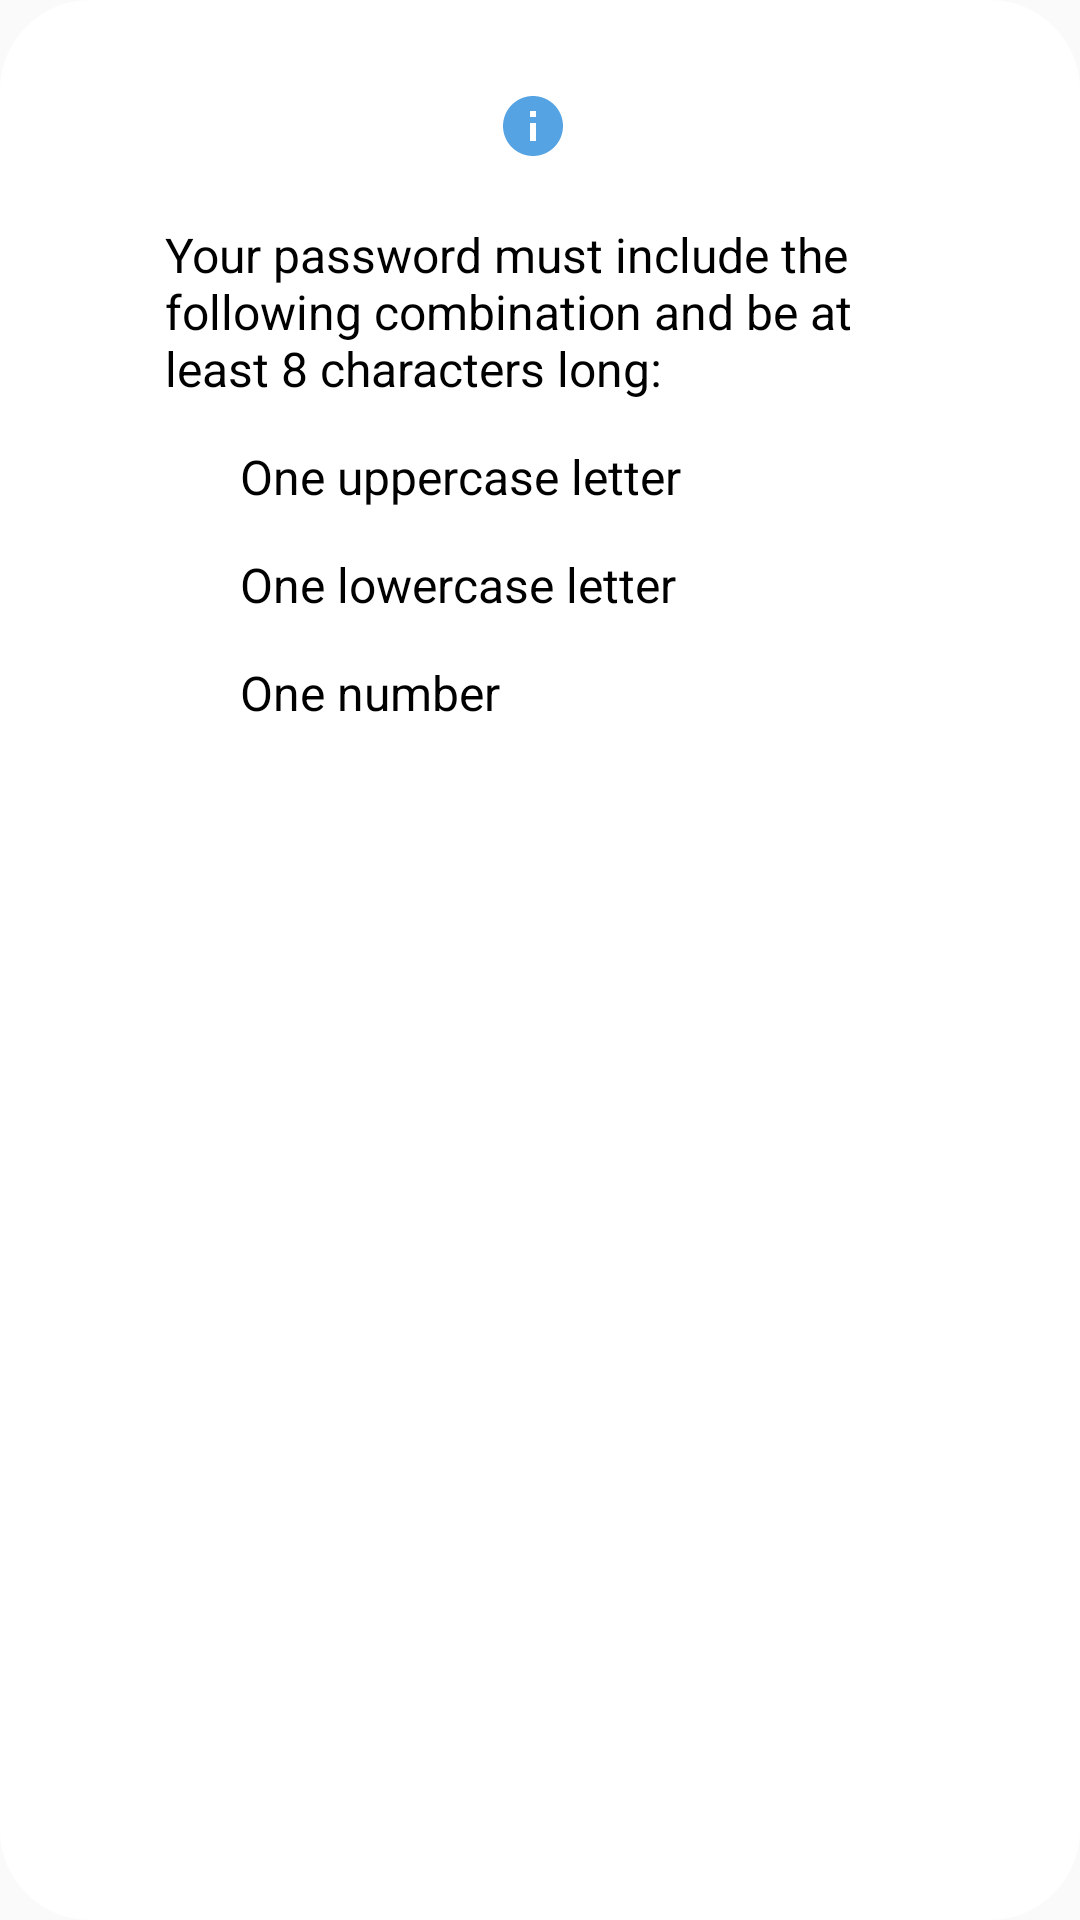

Screen size 1080px x 1920px. Icon name, then its box in pixels as box(x1, y1, x2, y2):
info: box(503, 96, 563, 156)
